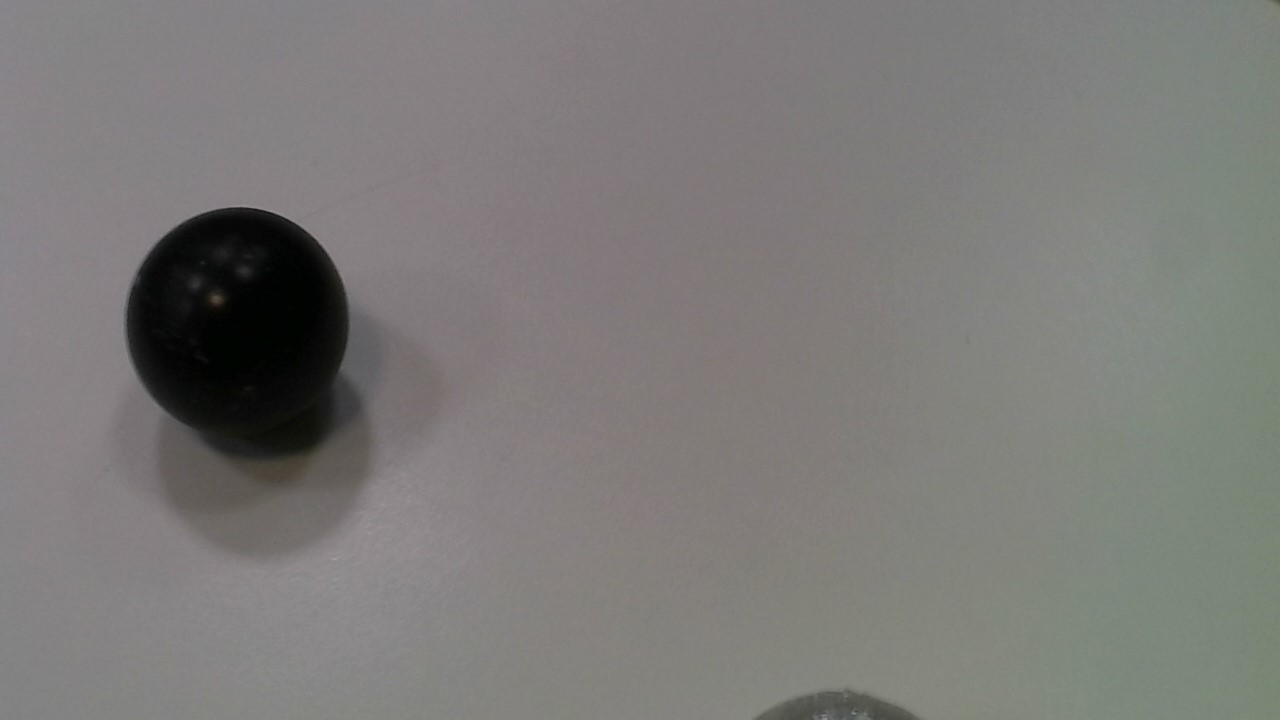black_ball: (118, 204, 362, 441)
